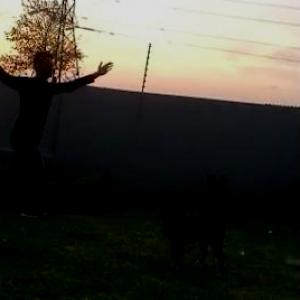takeoff: (0, 48, 107, 209)
